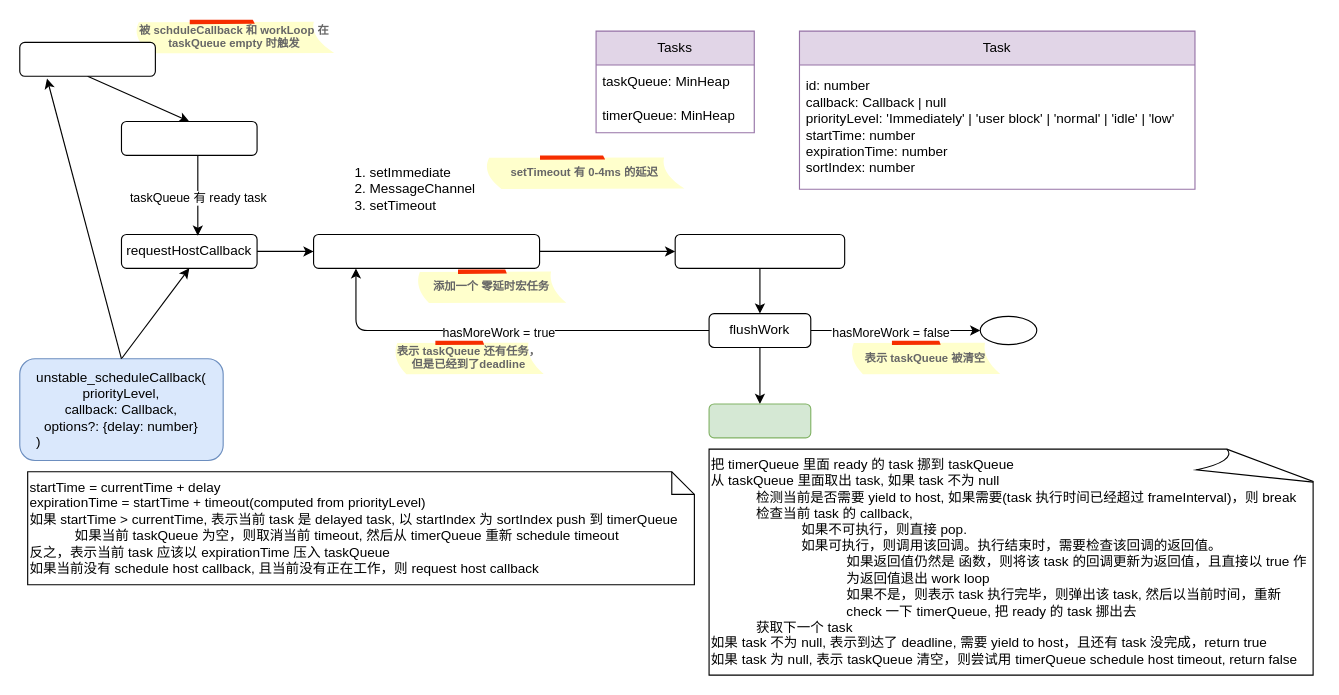
Some shapes in this 1339 by 695 pixel diagram are drawn without their labels. Here are the shapes that lost their labels. From the top down, the centre of each, then its label:
(x=87, y=58): requestHostTimeout
(x=188, y=137): handleTimeout
(x=426, y=250): schedulePerformWorkUtilDeadline
(x=759, y=250): performWorkUtilDeadline
(x=1008, y=330): Done
(x=759, y=420): workLoop
